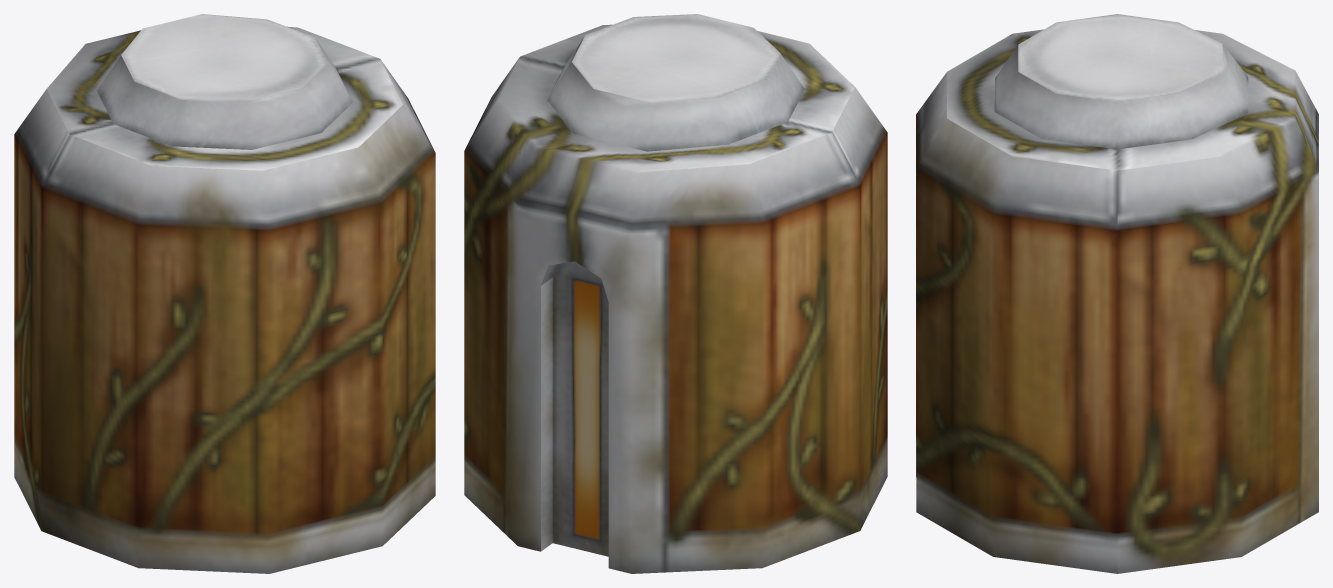
File: a_SWAchip.glb
3 views of the same model, side by side, from view 1: azimuth 30°, elevation 25°; view 2: azimuth 150°, elevation 25°; view 3: azimuth 270°, elevation 25° (orthographic).
Parts seen in each view (by area): view 1: a_SWAchip; view 2: a_SWAchip; view 3: a_SWAchip.
Boxes of the visible parts, bbox=[...] form: a_SWAchip: bbox=[14, 14, 435, 573]; a_SWAchip: bbox=[464, 14, 887, 573]; a_SWAchip: bbox=[916, 14, 1318, 573].
Bounding box in the file's own units: 0.9 × 1 × 0.8563.
Materials: 1 (1 with a texture image).
